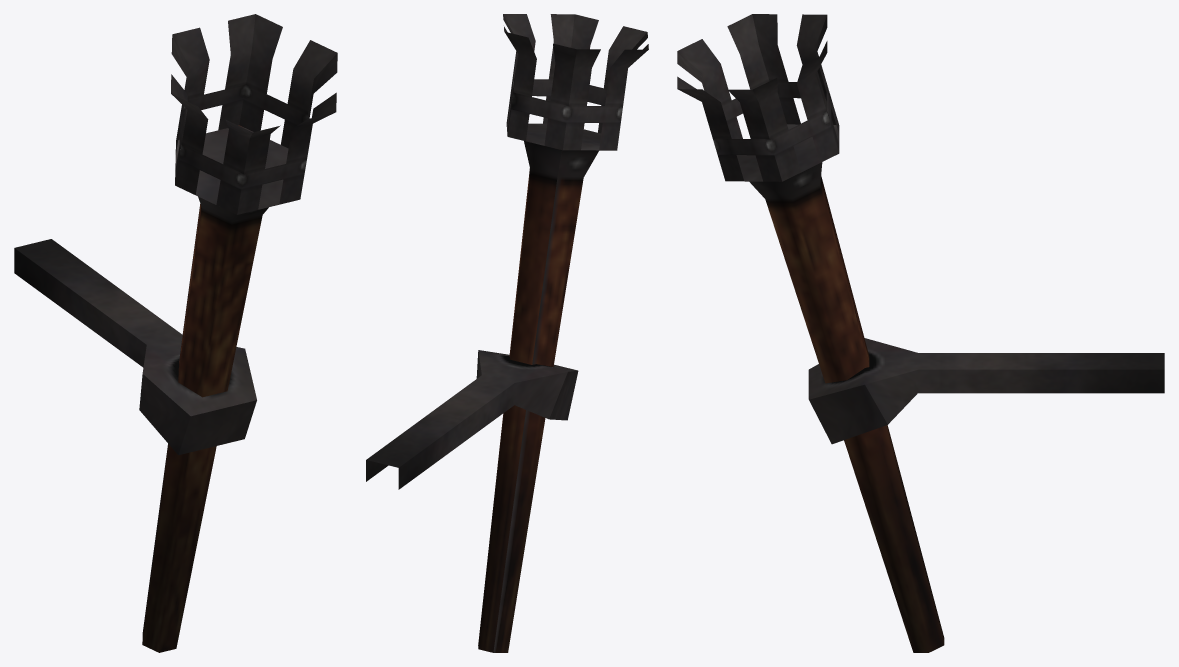
The model's file is torch.obj.
3 views of the same model, side by side, from view 1: azimuth 30°, elevation 25°; view 2: azimuth 150°, elevation 25°; view 3: azimuth 270°, elevation 25° (orthographic). The views are drawn at different scales.
Parts seen in each view (by area): view 1: Grim_Bear_Torch; view 2: Grim_Bear_Torch; view 3: Grim_Bear_Torch.
Boxes of the visible parts, x1,y1,x2,y2 form: Grim_Bear_Torch: [14, 14, 337, 652]; Grim_Bear_Torch: [366, 14, 648, 652]; Grim_Bear_Torch: [677, 14, 1164, 652].
Bounding box in the file's own units: 19.27 × 72.87 × 52.32.
1 material, 1 textured.
